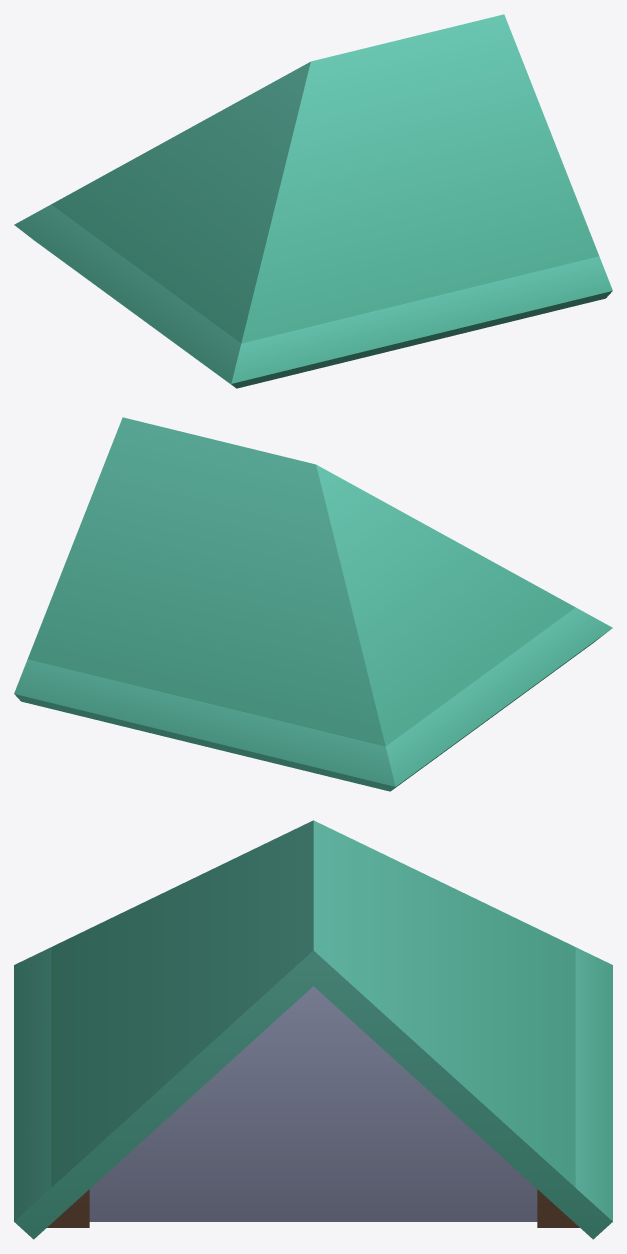
Rendered from roof-gable-end.glb.
3 renders of one model, top to bottom at view 1: azimuth 30°, elevation 25°; view 2: azimuth 150°, elevation 25°; view 3: azimuth 270°, elevation 25°, orthographic. The views are drawn at different scales.
Visible parts, largest first — view 1: roof-gable-end; view 2: roof-gable-end; view 3: roof-gable-end.
Part boxes in pixels (x1,y1,x2,y2): roof-gable-end: (14, 14, 612, 388); roof-gable-end: (14, 417, 612, 791); roof-gable-end: (14, 820, 612, 1239).
Bounding box in the file's own units: 1.09 × 0.5707 × 1.07.
1 material, 1 textured.
